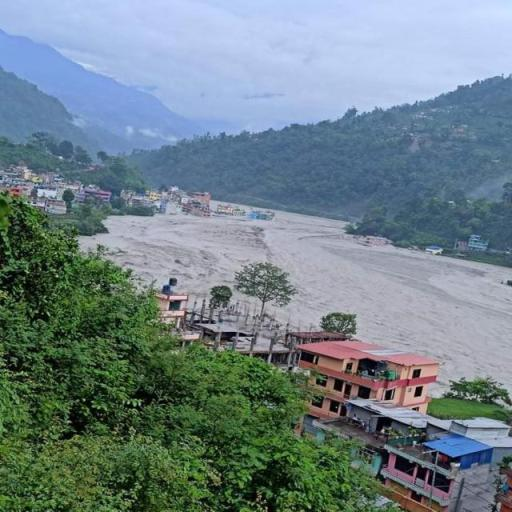flood: (79, 211, 512, 396)
house: (292, 335, 442, 420), (381, 444, 450, 507), (154, 282, 200, 332), (34, 180, 68, 213), (187, 190, 213, 216), (129, 189, 163, 208), (467, 231, 488, 254), (14, 164, 34, 180)
